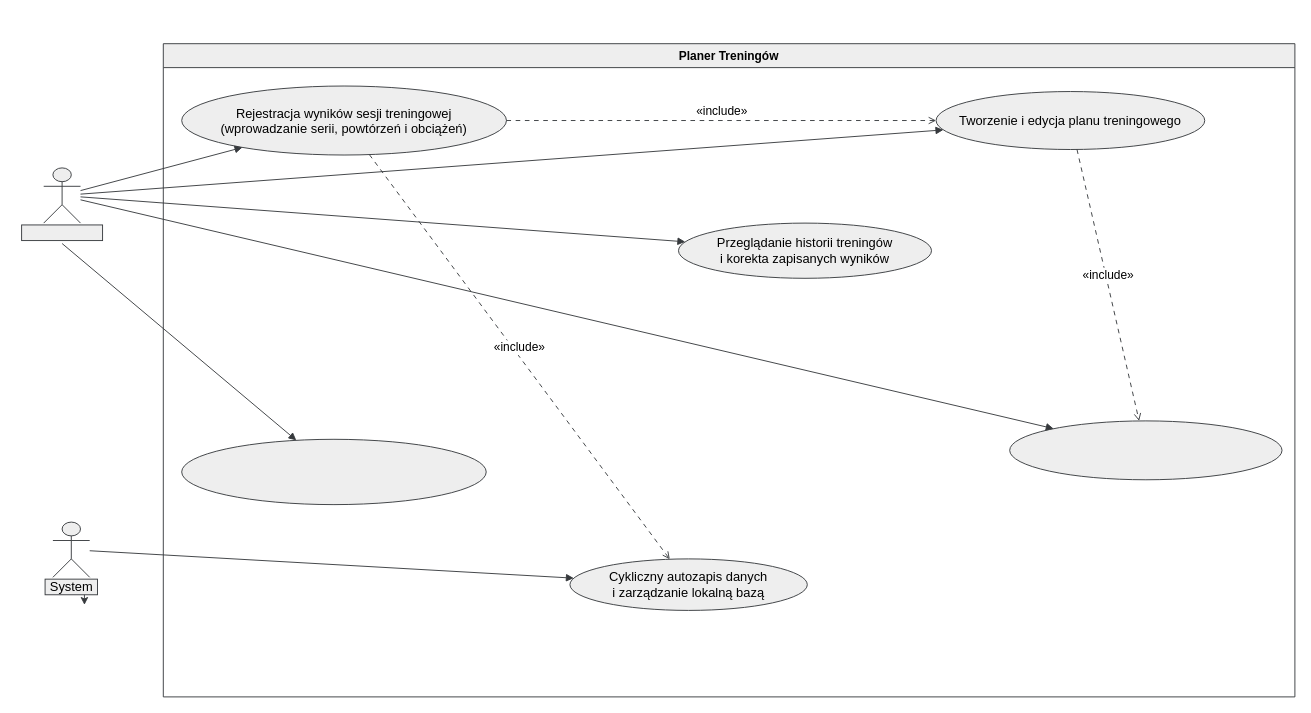
Image size: 1311x713. Some labels were removed from this diagram. The centre of each missing label's shape, as x and y in pixels:
"Eksport i import danych (kopia zapasowa JSON / CSV / SQLite)" goes at pixel 333 471.
"Użytkownik" goes at pixel 62 232.
"Zarządzanie własną bazą ćwiczeń (dodawanie, edycja, usuwanie)" goes at pixel 1145 450.
